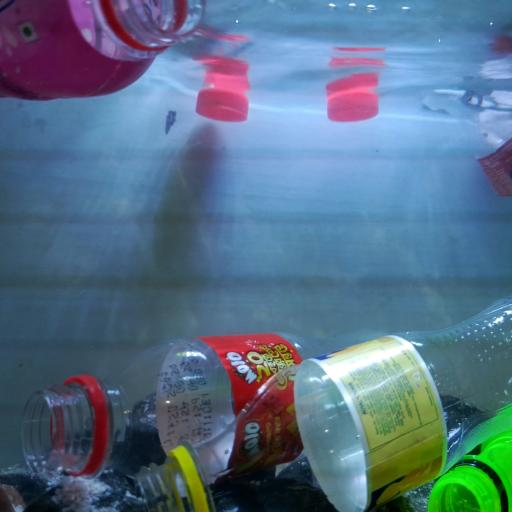bottle_cap: (196, 79, 252, 126), (327, 82, 380, 126)
plastic_bottle: (134, 295, 512, 512), (22, 333, 376, 480), (0, 0, 203, 102), (424, 398, 512, 512), (474, 114, 512, 203)
